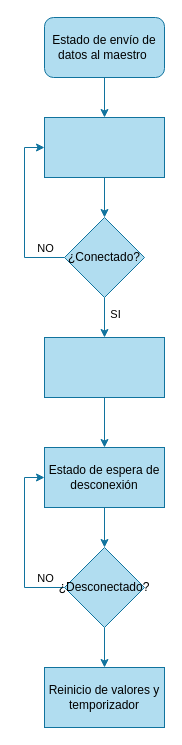
Some shapes in this 182 by 745 pixel diagram are drawn without their labels. Here are the shapes that lost their labels. From the top down, the centre of each, then its label:
At [104,147]: "Advertising".
At [104,367]: "Envío de los datos".
